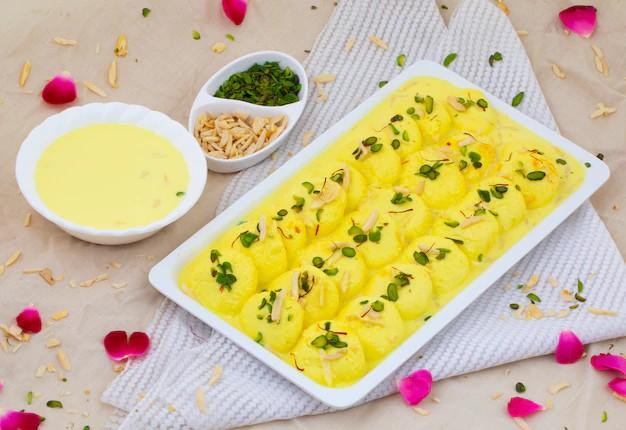RasMalai: (176, 78, 583, 388)
